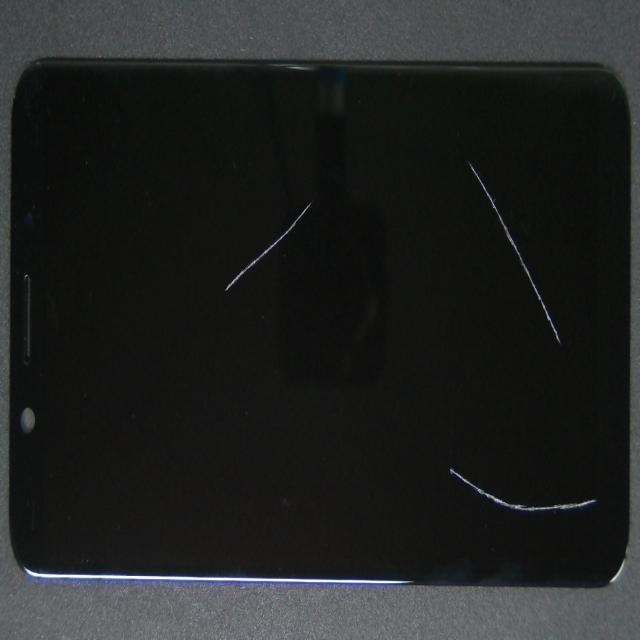scratch: (298, 275, 640, 640), (212, 37, 424, 311), (338, 288, 640, 427)
